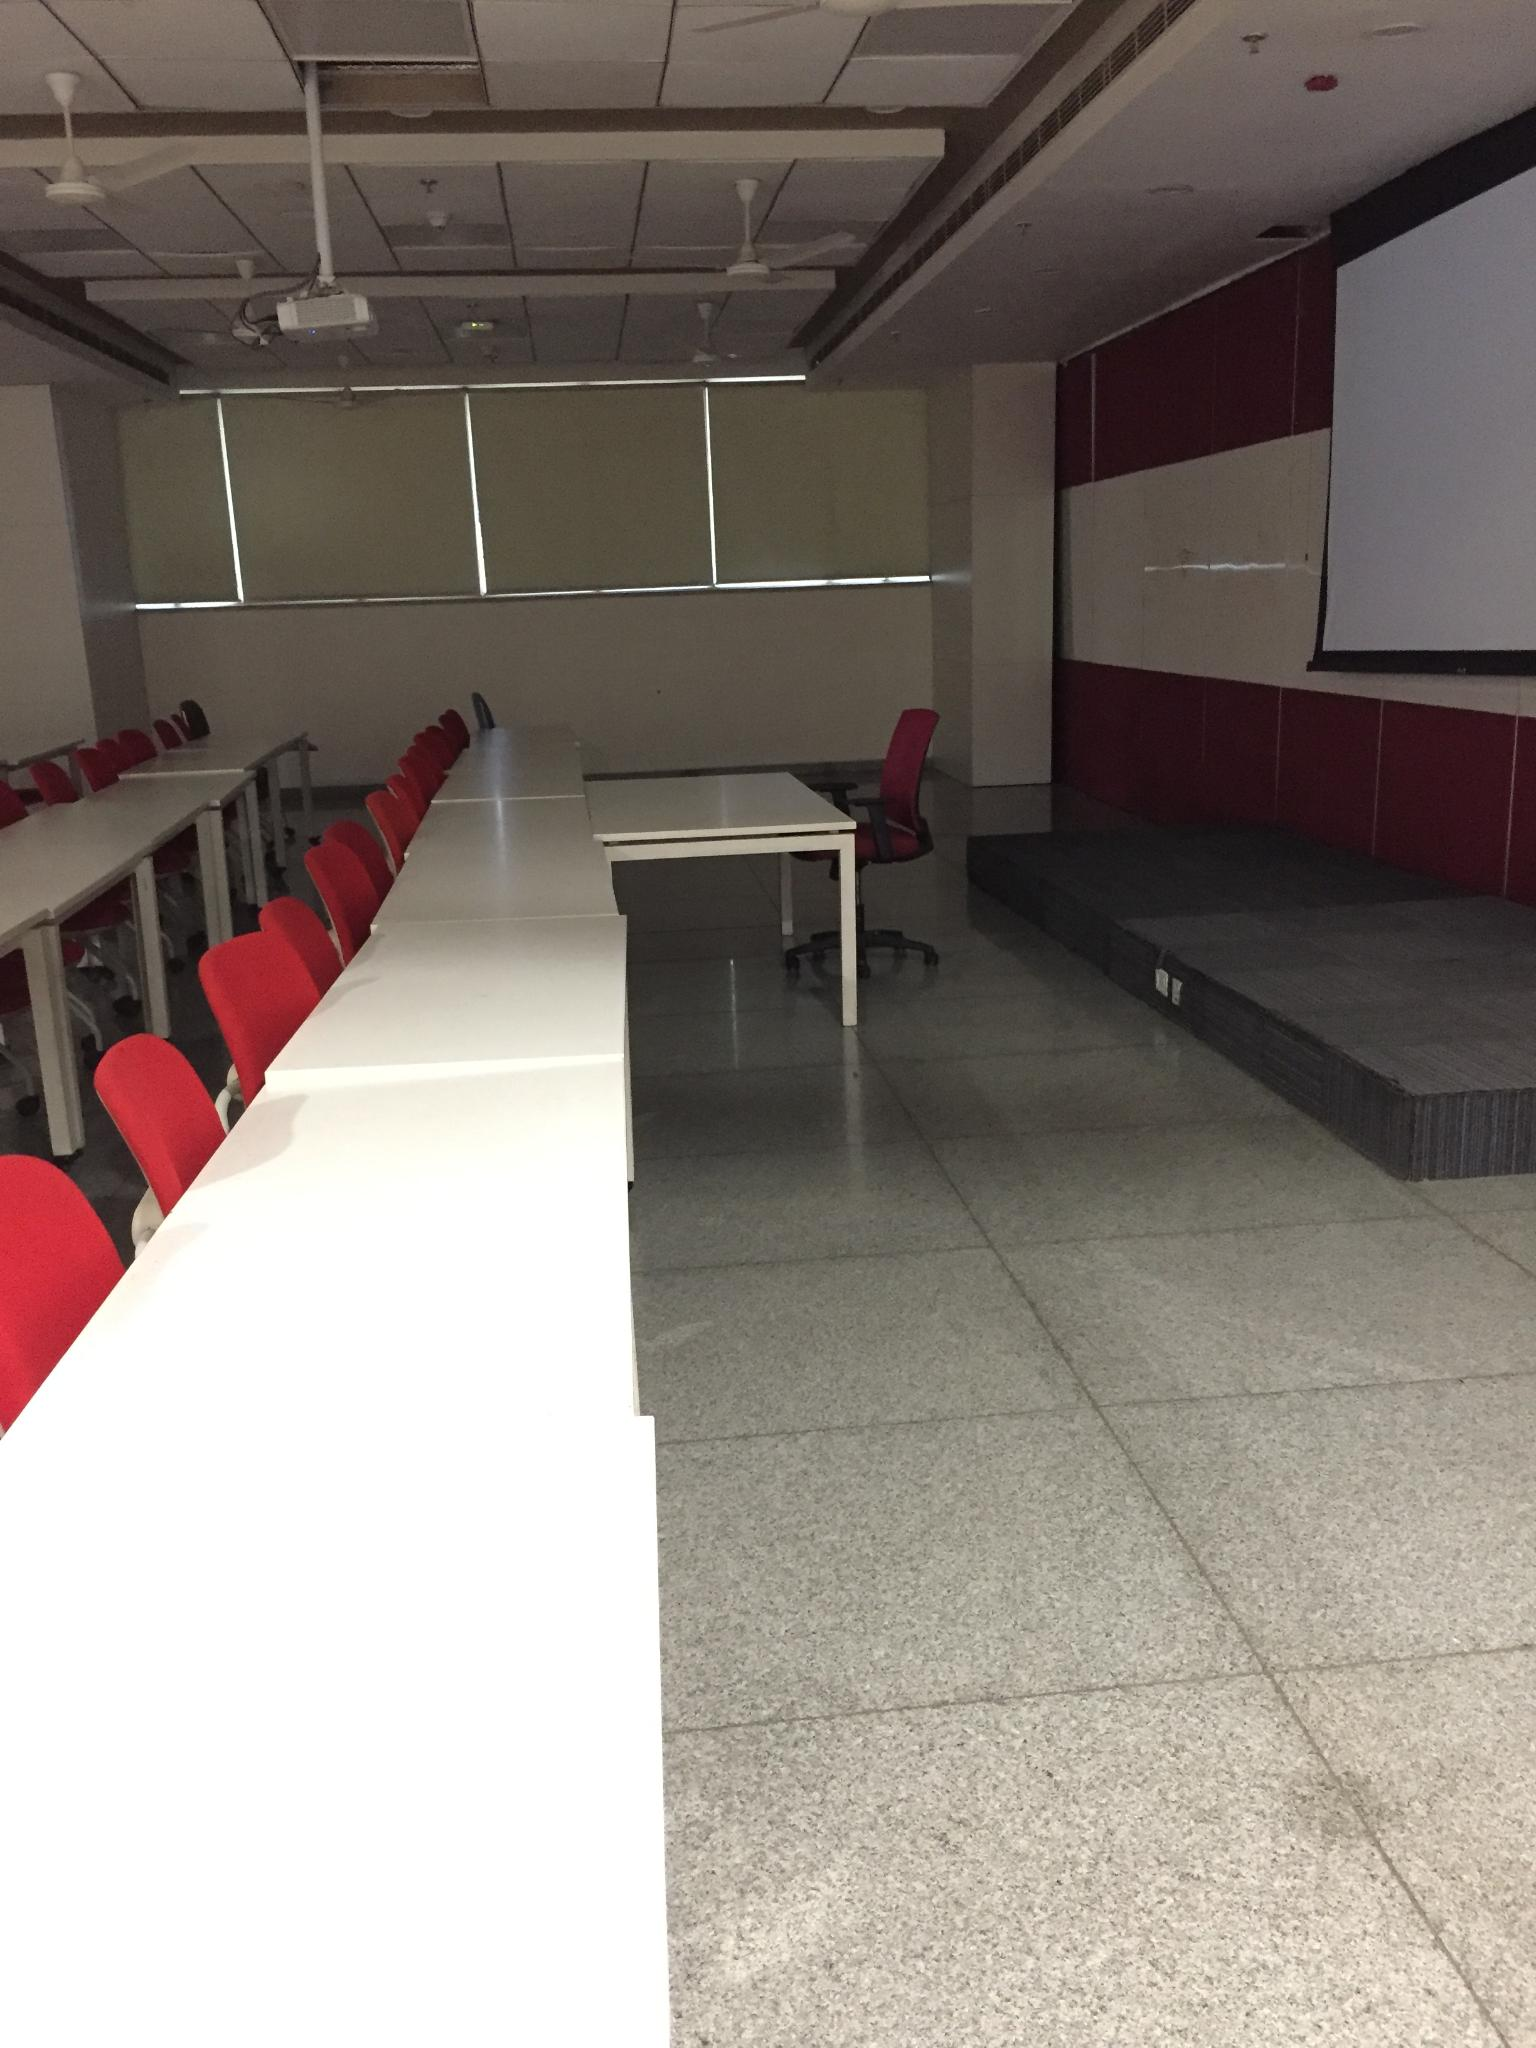chair: (784, 706, 941, 977), (0, 1153, 126, 1434), (94, 1032, 229, 1221), (197, 930, 321, 1106), (302, 842, 379, 964), (258, 895, 342, 997), (358, 772, 424, 861), (2, 750, 65, 816), (171, 679, 231, 743), (458, 689, 500, 742), (405, 739, 444, 789), (124, 713, 148, 764), (434, 705, 452, 758), (82, 726, 98, 779)
